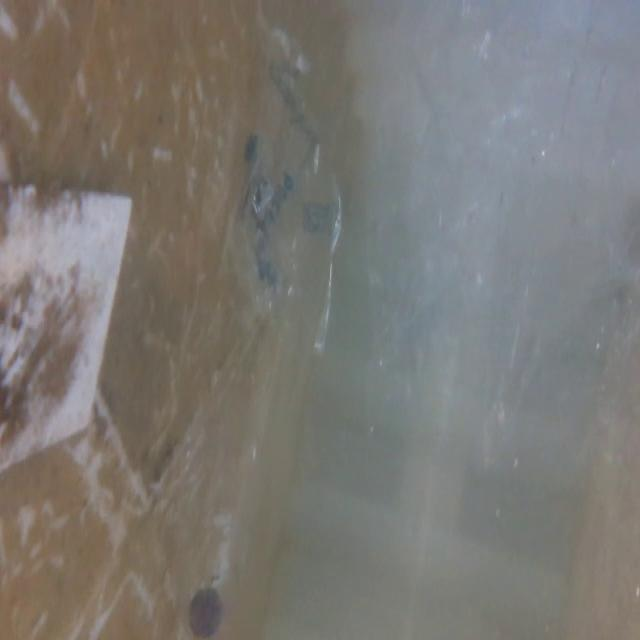metal: (0, 189, 155, 464)
plastic bags: (357, 0, 618, 500), (216, 7, 342, 375)
plastic bottle: (180, 376, 269, 640)
